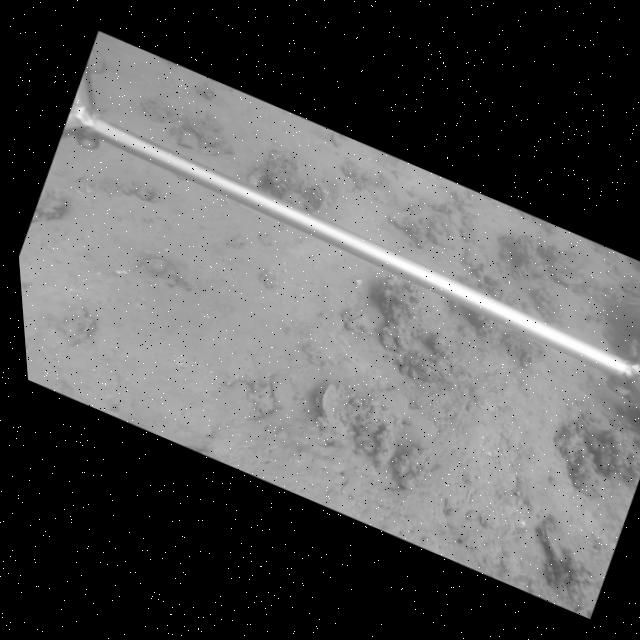Oyster-Closed: (542, 523, 575, 579), (280, 181, 307, 210)
Oyster-Indeterminate: (318, 381, 357, 442), (135, 253, 180, 285)
